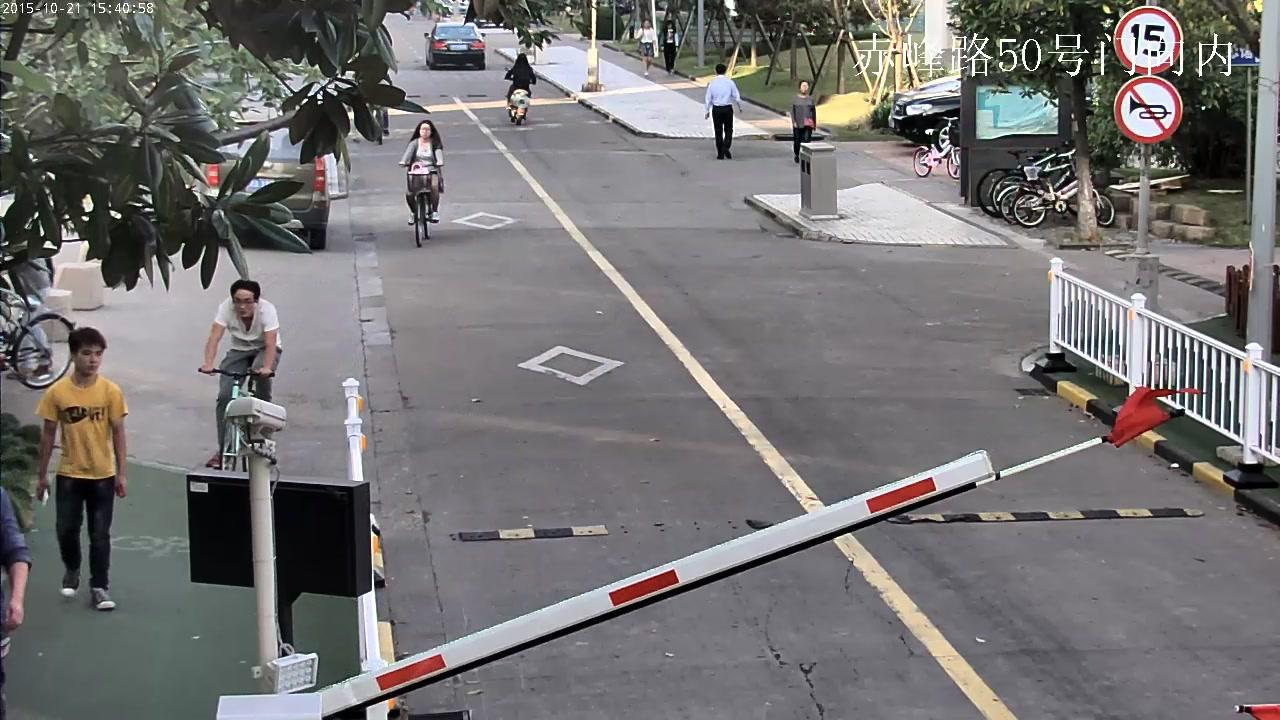face: (76, 345, 101, 374), (233, 289, 254, 317), (419, 123, 430, 137), (801, 82, 809, 94), (644, 20, 649, 26), (668, 23, 671, 27)
